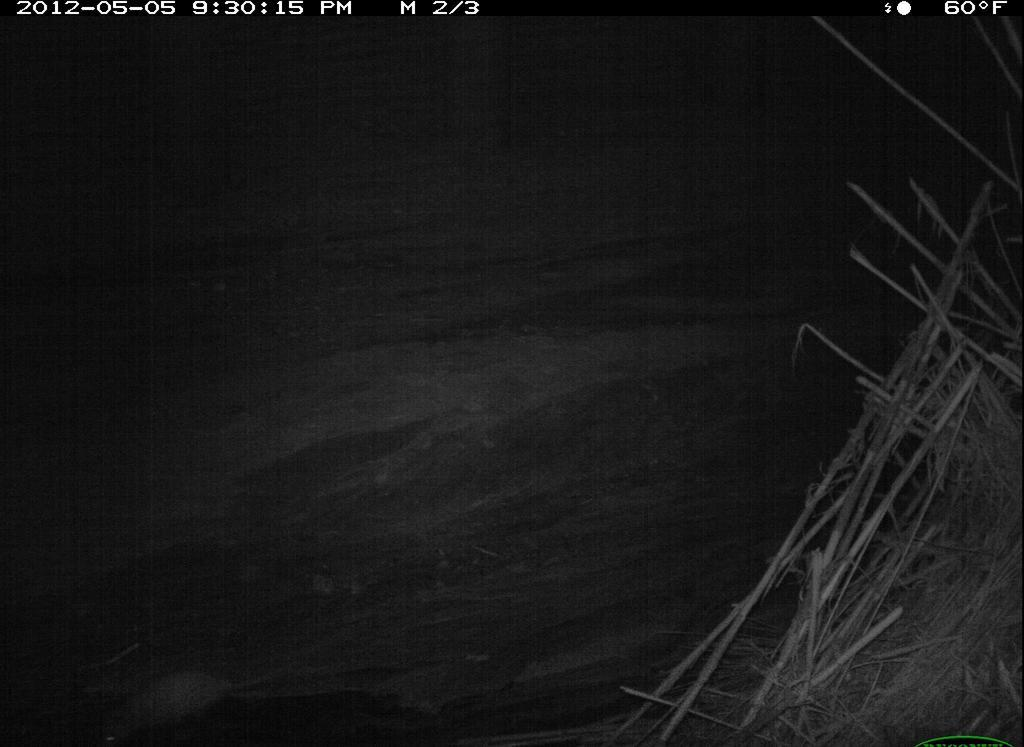opossum: (82, 662, 304, 747)
